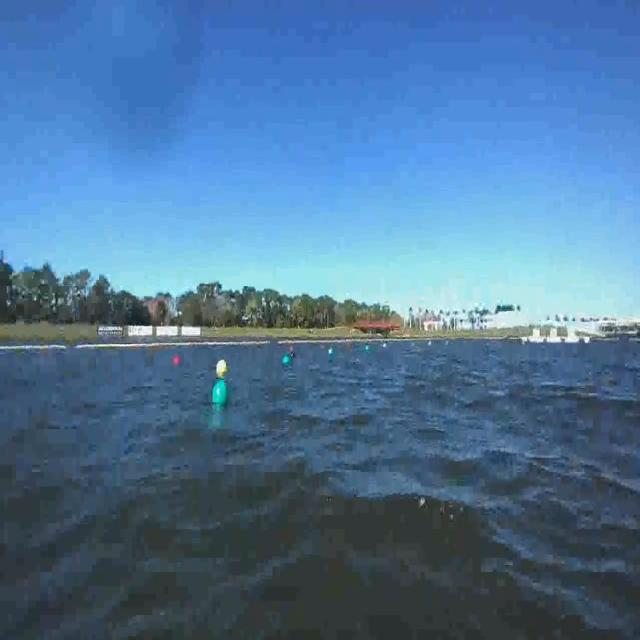green-buoy: (212, 376, 229, 404), (282, 354, 291, 366)
red-buoy: (172, 352, 180, 367)
yellow-buoy: (215, 356, 228, 376)
